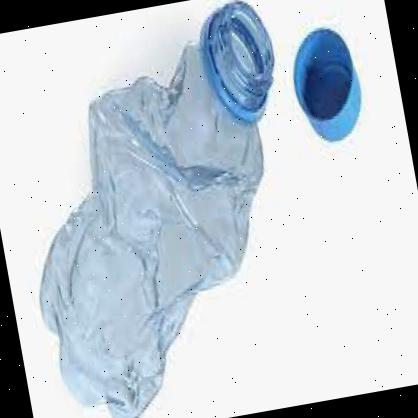bottle: (0, 0, 336, 418)
cap: (282, 21, 369, 149)
